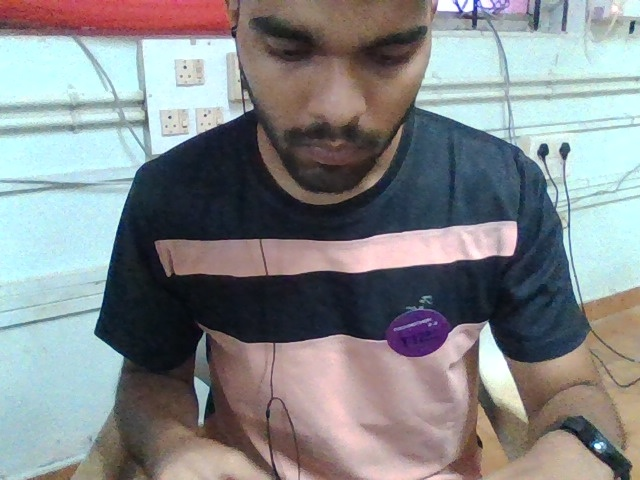Drink: (193, 463, 213, 478)
